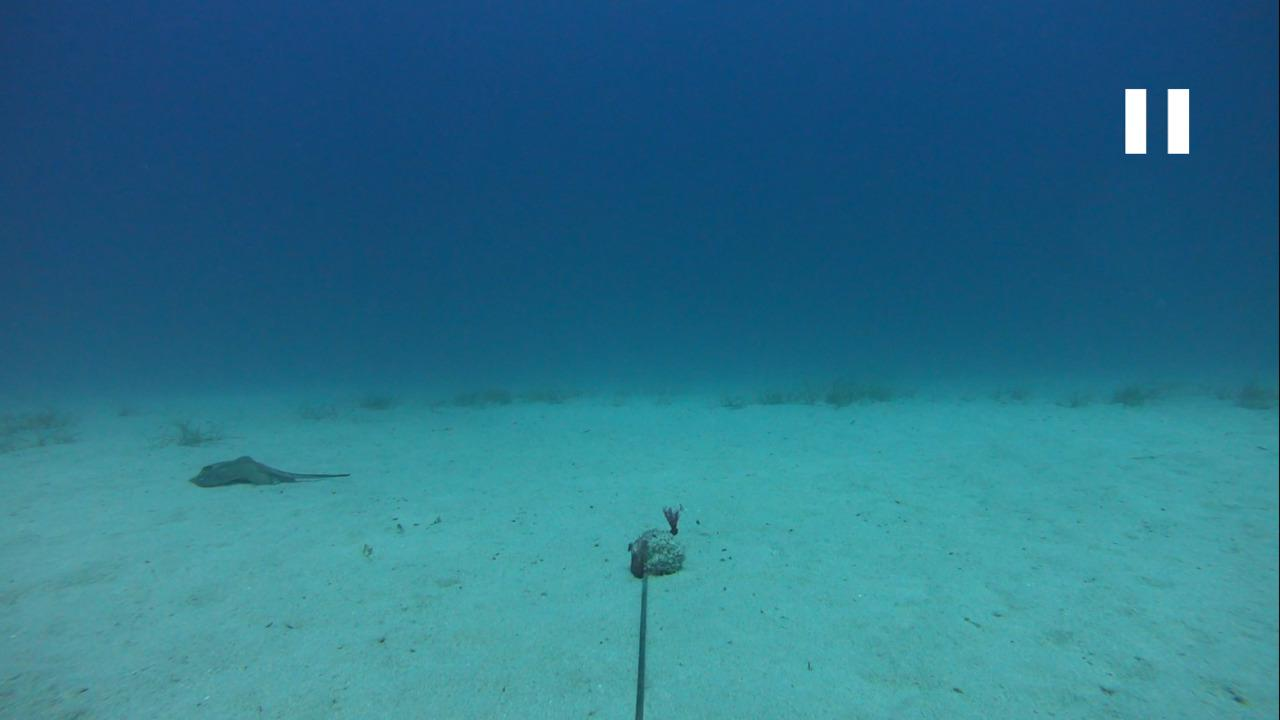myliobatis: (181, 450, 357, 495)
